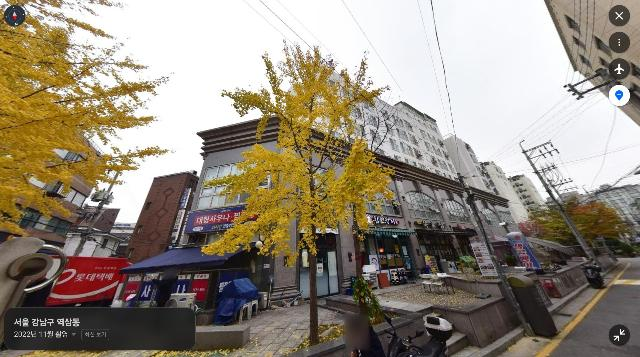ginkgo: (201, 38, 392, 346), (0, 0, 173, 241), (324, 135, 401, 320)
other: (559, 196, 628, 266), (514, 216, 556, 272)
